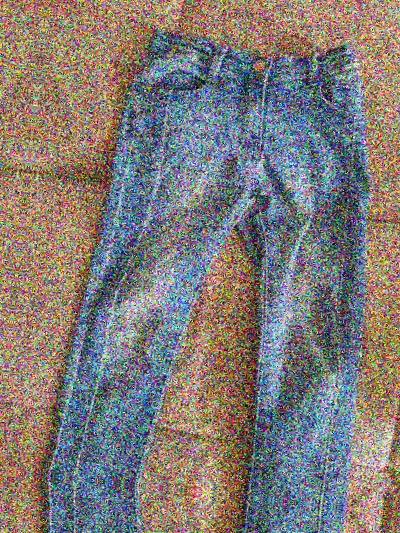Pants: (24, 10, 400, 506), (0, 476, 350, 533), (0, 0, 16, 464)
